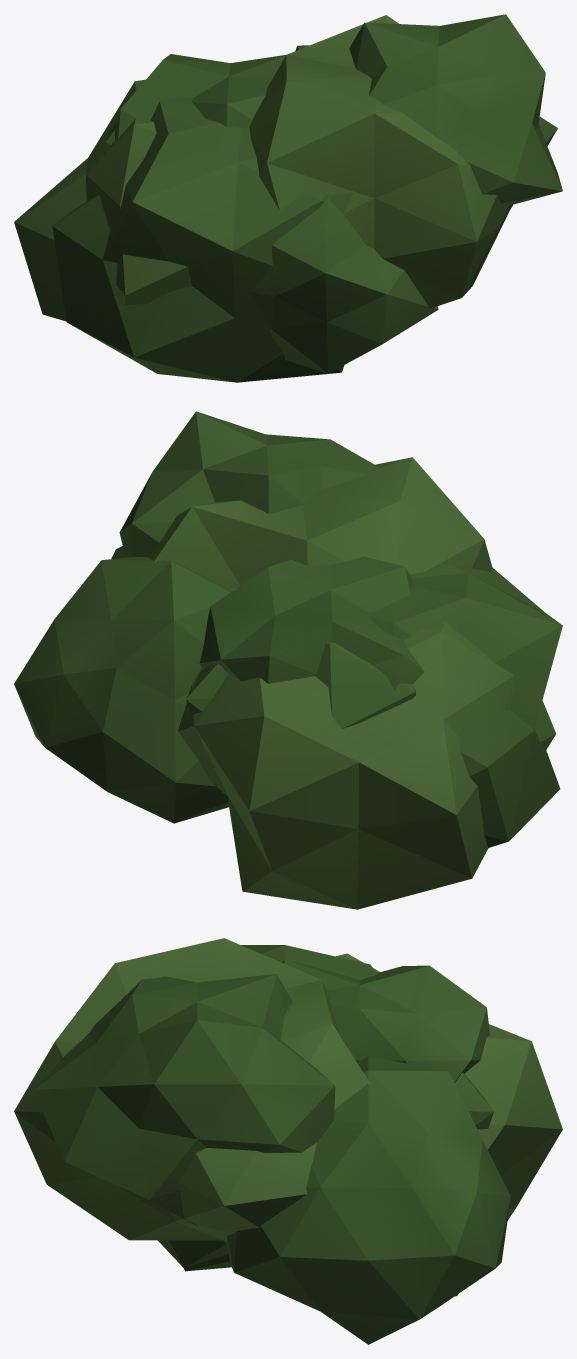
The model's file is veg_buske_2.glb.
The picture shows the model from 3 angles, top to bottom: view 1: azimuth 30°, elevation 25°; view 2: azimuth 150°, elevation 25°; view 3: azimuth 270°, elevation 25°; orthographic projection. The views are drawn at different scales.
Visible parts, largest first — view 1: geometry_0; view 2: geometry_0; view 3: geometry_0.
Boxes of the visible parts, box(x1,y1,x2,y2) form: geometry_0: box(14, 14, 562, 382); geometry_0: box(14, 411, 562, 909); geometry_0: box(14, 938, 562, 1344).
Size of the model in its own units: 1.38 by 1 by 1.37.
